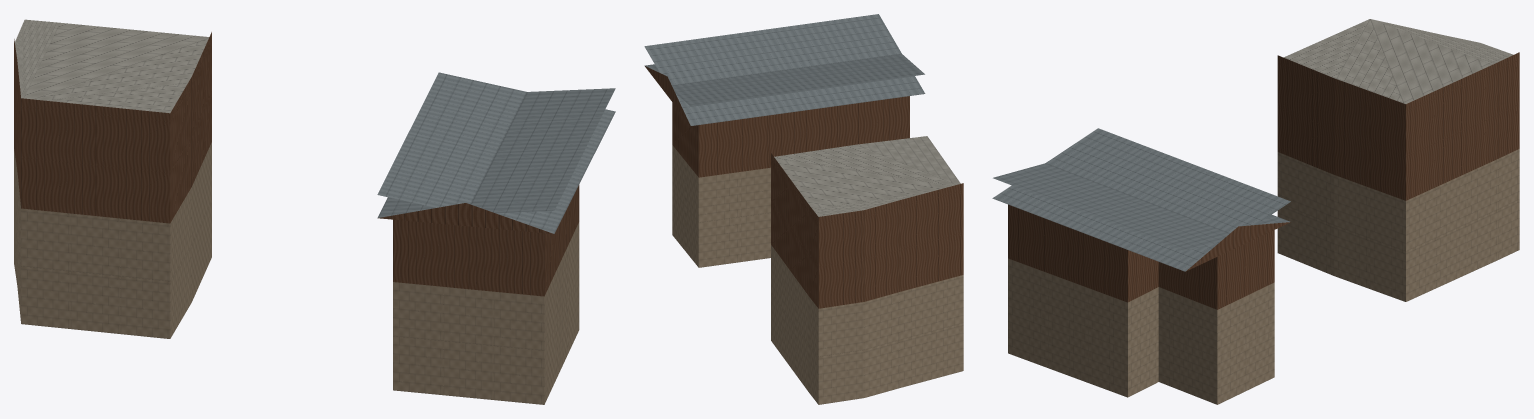
File: bld_c-7_21_606.gltf
3 views of the same model, side by side, from view 1: azimuth 30°, elevation 25°; view 2: azimuth 150°, elevation 25°; view 3: azimuth 270°, elevation 25° (orthographic). The views are drawn at different scales.
Parts seen in each view (by area): view 1: bld_c-7_21_606; view 2: bld_c-7_21_606; view 3: bld_c-7_21_606.
Part boxes in pixels (x1,y1,x2,y2): bld_c-7_21_606: (14,19,615,404); bld_c-7_21_606: (644,14,963,404); bld_c-7_21_606: (992,19,1519,404).
Bounding box in the file's own units: 21.95 × 9.98 × 23.39.
5 materials, 5 textured.
